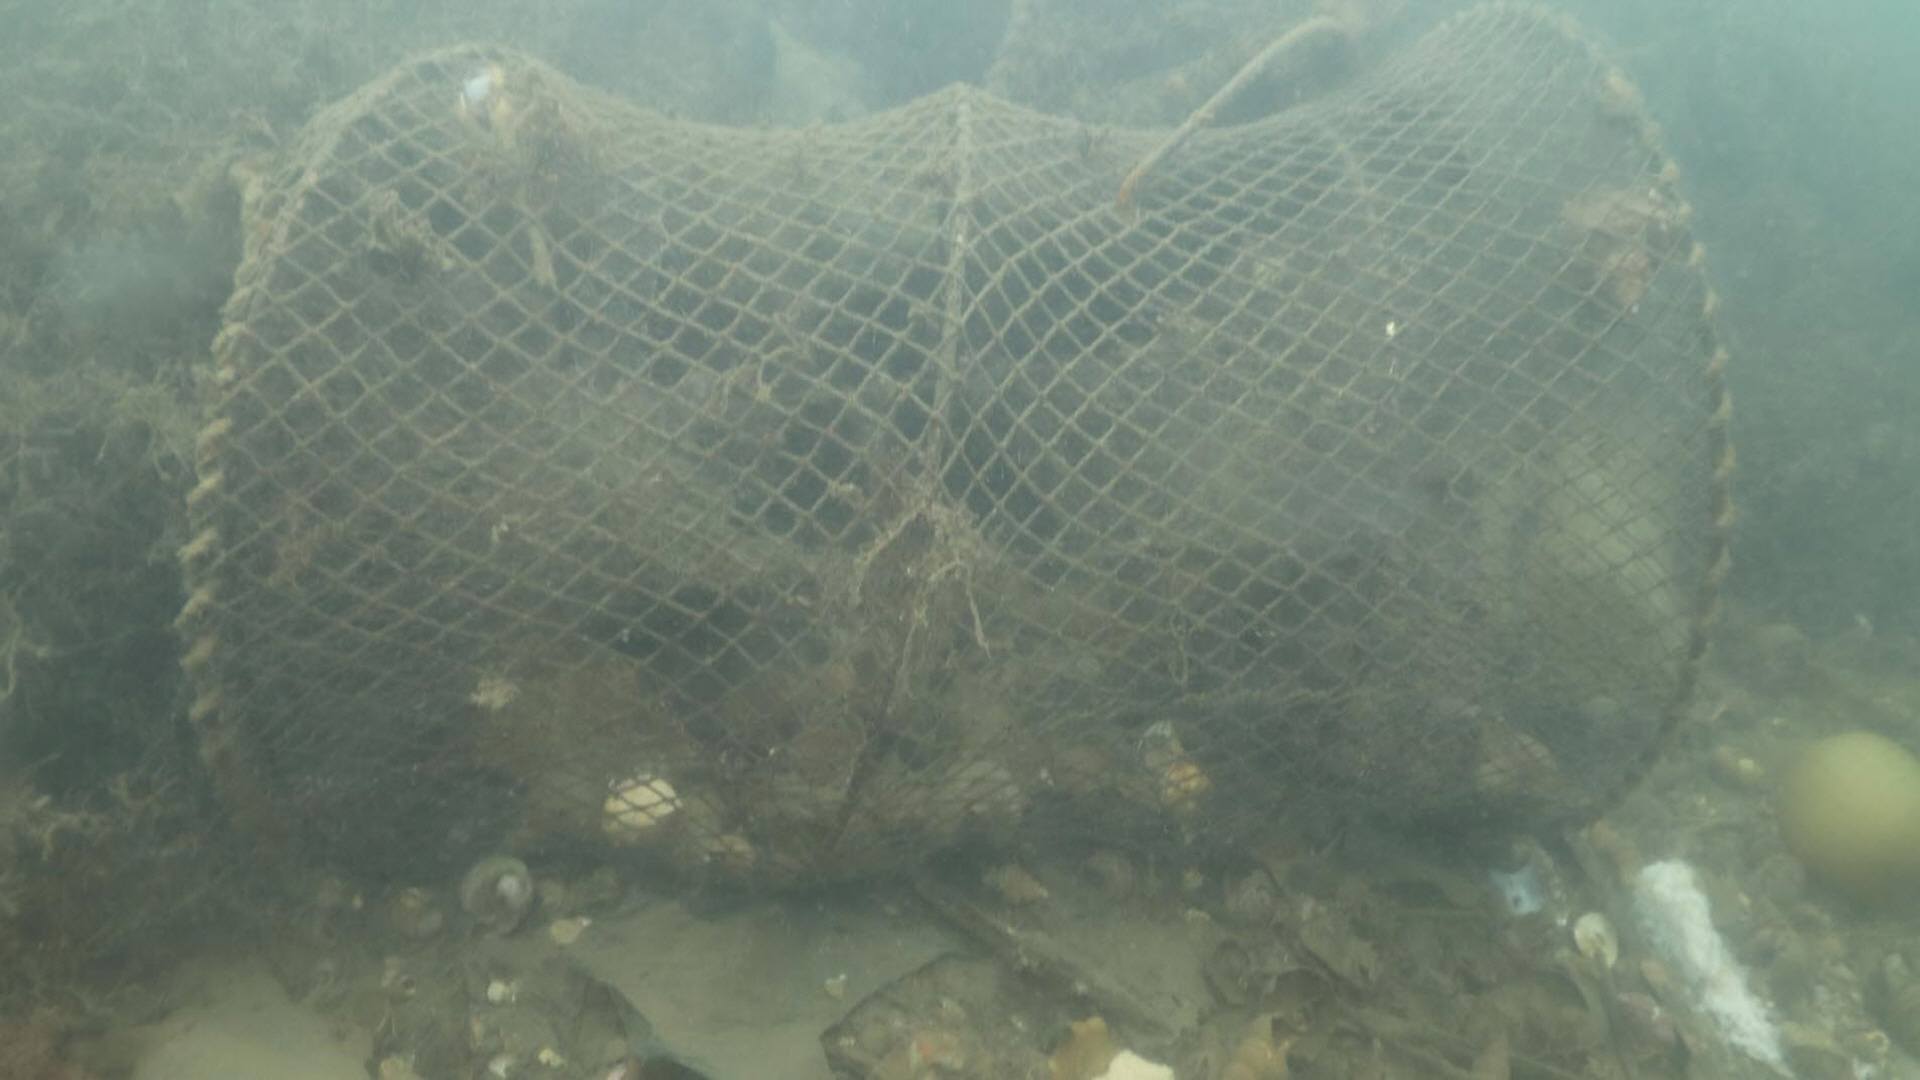spring fish trap: (170, 0, 1742, 898)
